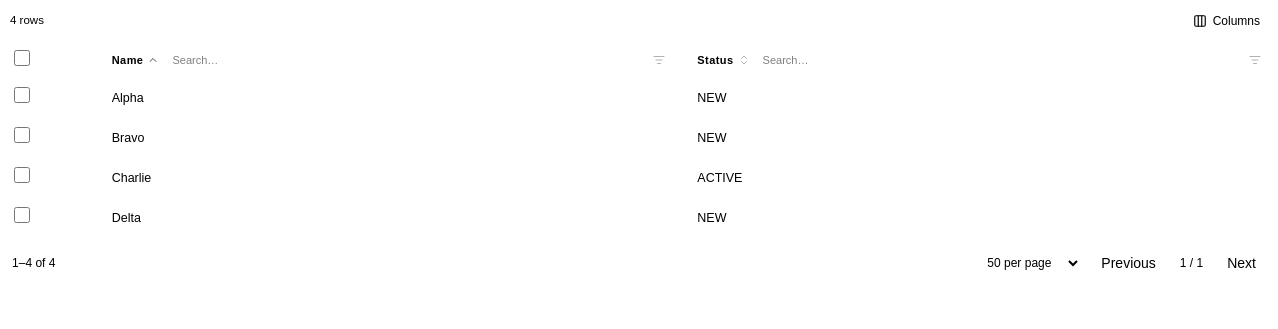
Test: DataTable selection + bulk edit › reports failed rows and keeps only them selected
Click the checkbox named "Select all rows on this page" at point(22, 58), box [14, 50, 30, 66]
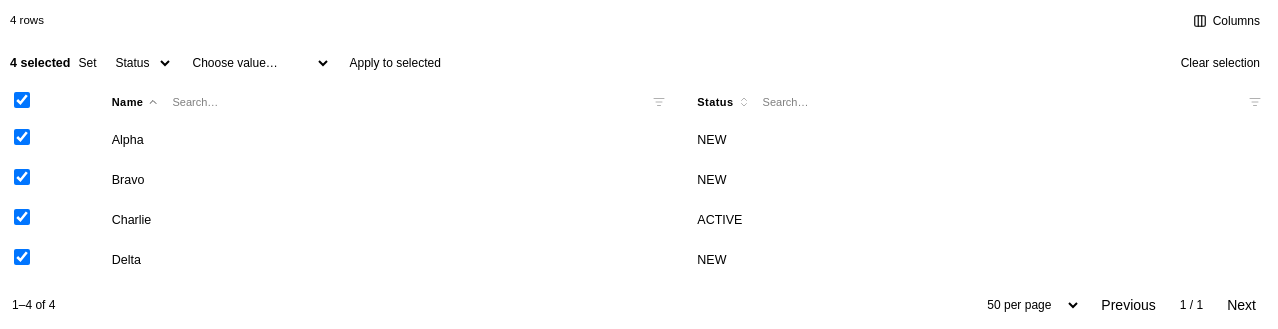
Select "Active" in the dropdown named "Value to apply" at point(256, 63), box [182, 51, 332, 75]
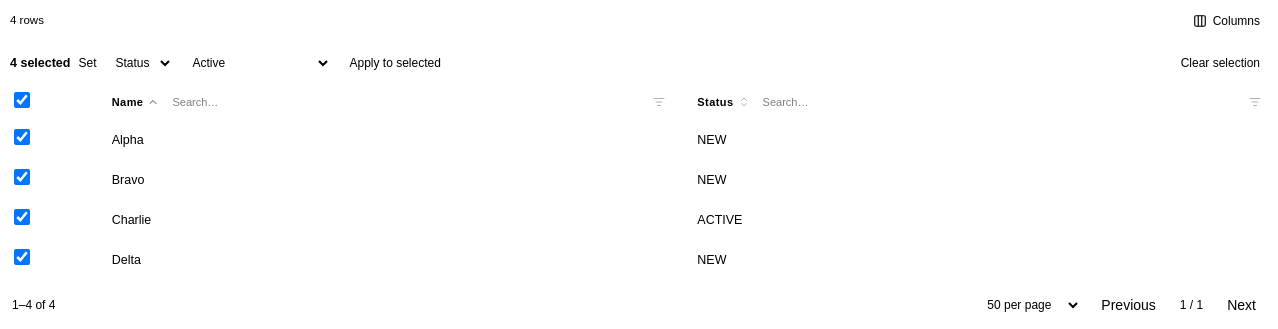
Click the button "Apply to selected" at point(395, 63), box [340, 49, 451, 77]
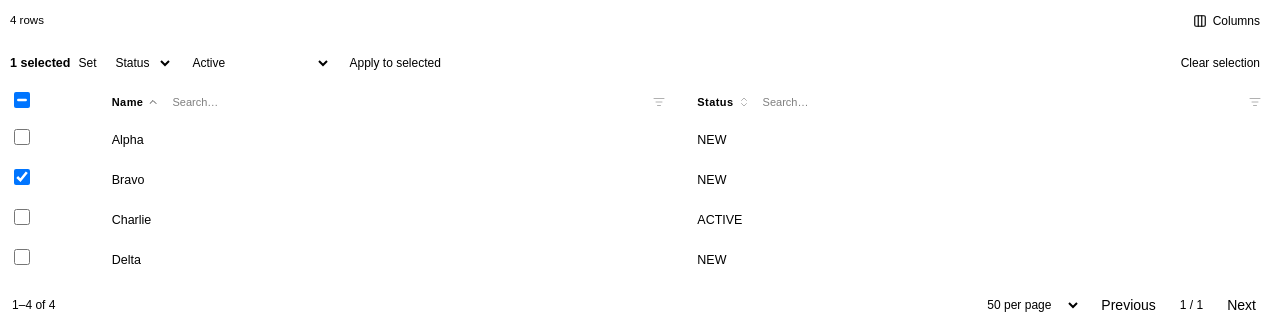
Expected: the text "1 selected" is shown, [10, 54, 70, 72]
